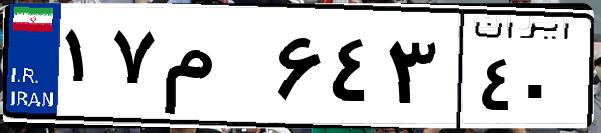0: (525, 38, 570, 115)
1: (57, 26, 110, 100)
3: (385, 28, 445, 110)
4: (330, 28, 385, 110), (475, 38, 525, 113)
6: (270, 28, 330, 110)
7: (110, 28, 158, 98)
م: (158, 20, 270, 120)
